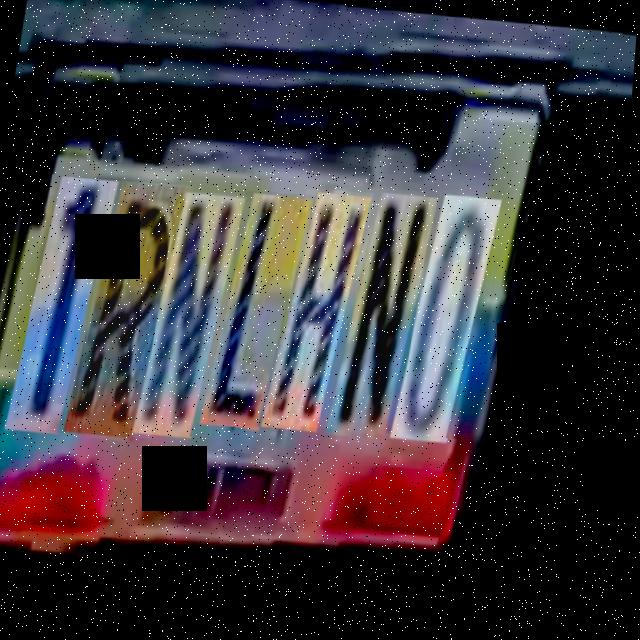1: (18, 174, 125, 436)
H: (276, 189, 378, 431)
L: (215, 191, 321, 430)
N: (338, 188, 448, 439), (145, 189, 254, 440)
O: (403, 190, 510, 443)
R: (77, 179, 196, 441)
